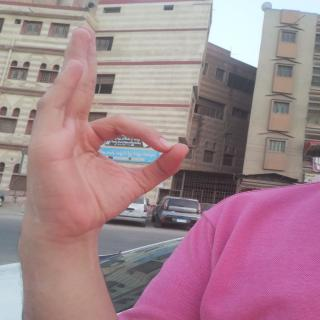Space: (23, 22, 189, 229)
